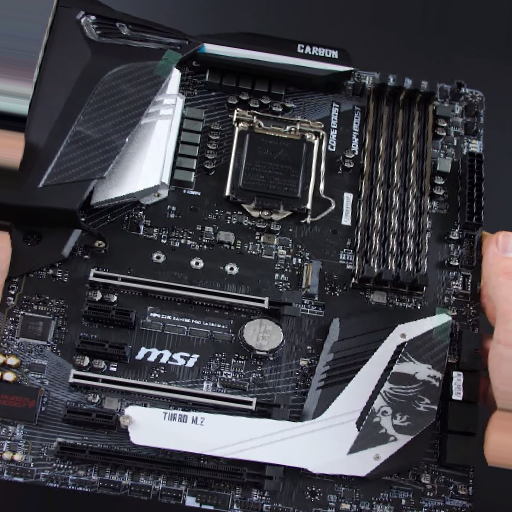CPU: (220, 121, 322, 222)
GPU: (66, 368, 292, 422), (54, 441, 285, 493), (85, 267, 301, 320)
MOTHERBOARD: (7, 5, 493, 507)
RAM: (352, 73, 441, 295)
SSD: (297, 258, 325, 297)
